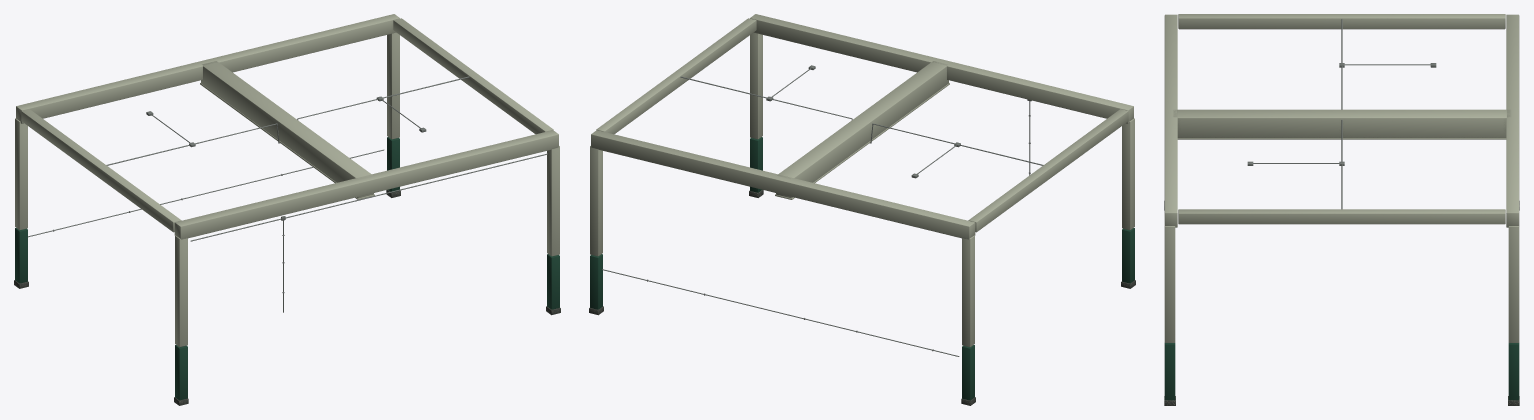
The model's file is CTCC_LOC03_WardArch.fbx.
3 views of the same model, side by side, from view 1: azimuth 30°, elevation 25°; view 2: azimuth 150°, elevation 25°; view 3: azimuth 270°, elevation 25° (orthographic). The views are drawn at different scales.
Parts seen in each view (by area): view 1: CTCC_LOC03_WardArch; view 2: CTCC_LOC03_WardArch; view 3: CTCC_LOC03_WardArch.
Boxes of the visible parts, x1=… form: CTCC_LOC03_WardArch: x1=14, y1=14, x2=560, y2=405; CTCC_LOC03_WardArch: x1=589, y1=14, x2=1135, y2=405; CTCC_LOC03_WardArch: x1=1164, y1=14, x2=1519, y2=405.
Size of the model in its own units: 8.02 by 3.6 by 6.02.
